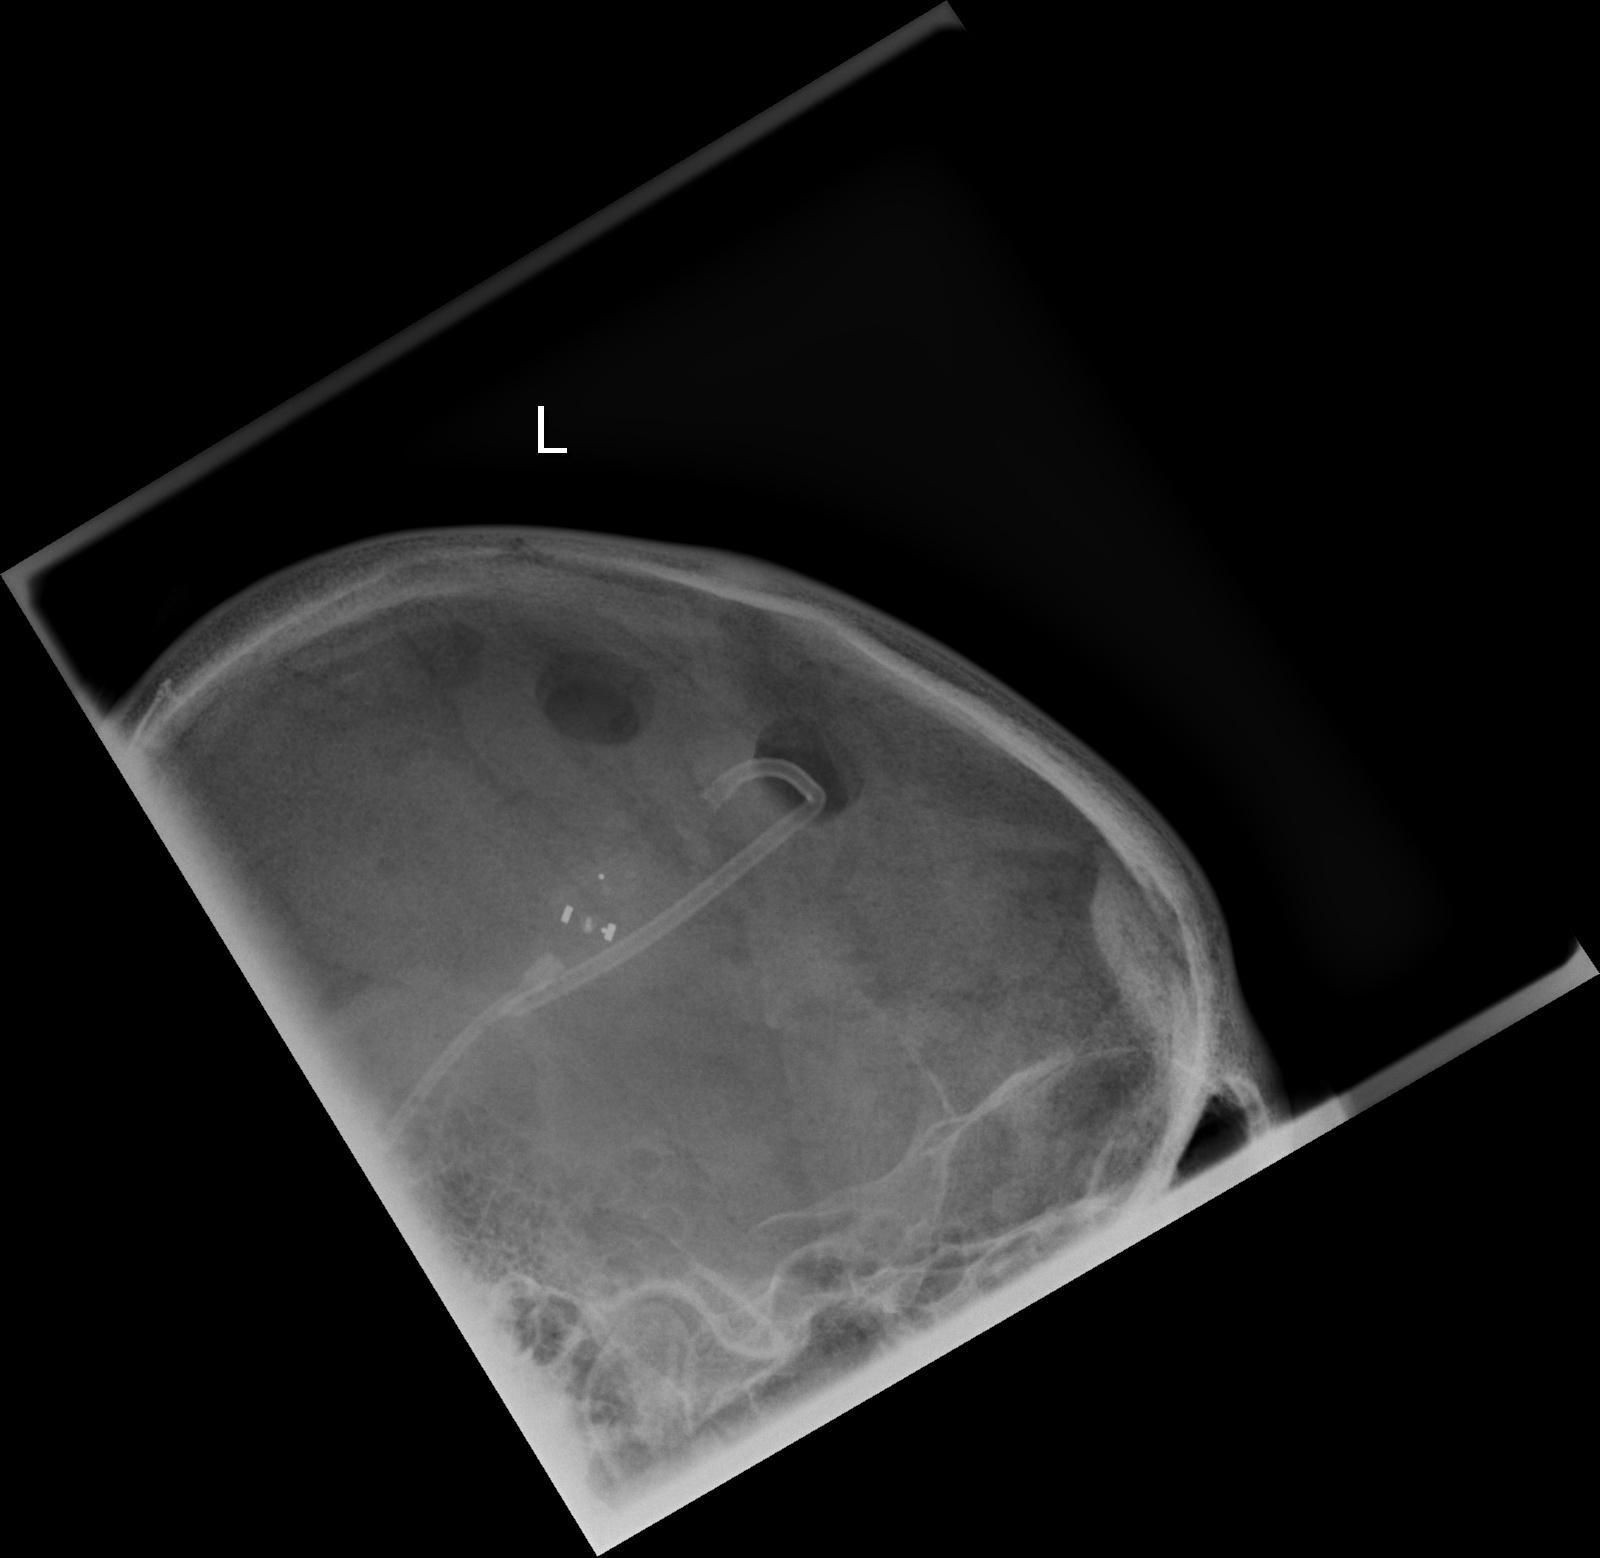Codman Certas: (554, 863, 631, 960)
